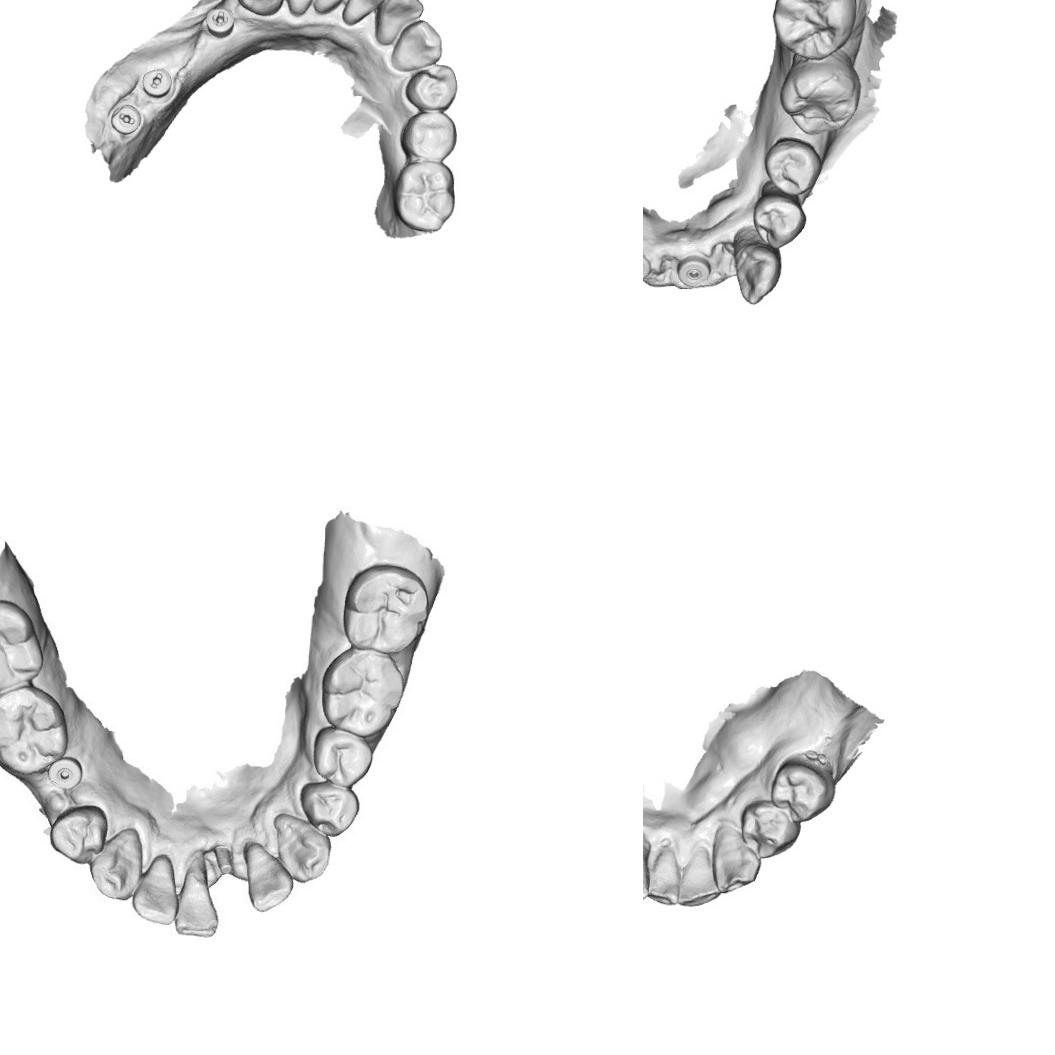abutment: (214, 838, 239, 884)
canine: (726, 233, 786, 307), (708, 822, 764, 898), (274, 812, 332, 884), (89, 827, 144, 902), (389, 17, 444, 73), (232, 0, 286, 17)
implant: (46, 754, 87, 792), (676, 250, 713, 292), (643, 245, 652, 283)
implant_minus: (108, 102, 143, 136), (139, 66, 173, 99)
implant_plus: (203, 7, 236, 40)
incisor: (675, 842, 724, 912), (176, 857, 217, 938), (643, 841, 687, 910), (132, 861, 177, 928), (248, 849, 295, 912), (375, 0, 425, 47), (340, 0, 388, 28), (643, 833, 656, 904), (282, 0, 326, 17), (312, 0, 360, 15)
molar: (342, 562, 428, 655), (776, 52, 862, 138), (322, 646, 401, 736), (0, 689, 70, 778), (767, 0, 865, 62), (392, 159, 456, 233), (0, 597, 40, 691)
premolar: (768, 756, 836, 825), (737, 798, 803, 861), (761, 136, 824, 198), (749, 192, 807, 252), (302, 779, 362, 834), (398, 110, 458, 162), (316, 731, 372, 784), (50, 810, 105, 860), (404, 63, 458, 113)
